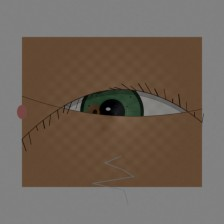foreign_body_visible: (80, 100, 110, 125)
